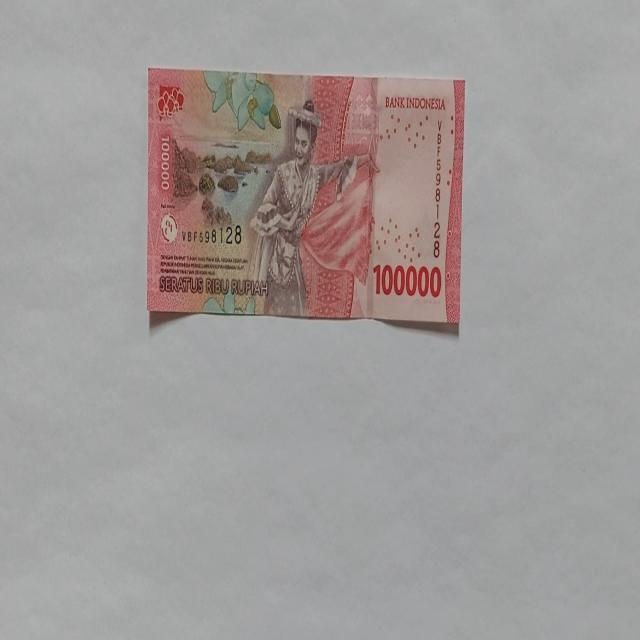seratus ribu rupiah: (146, 68, 466, 338), (246, 99, 366, 318)
